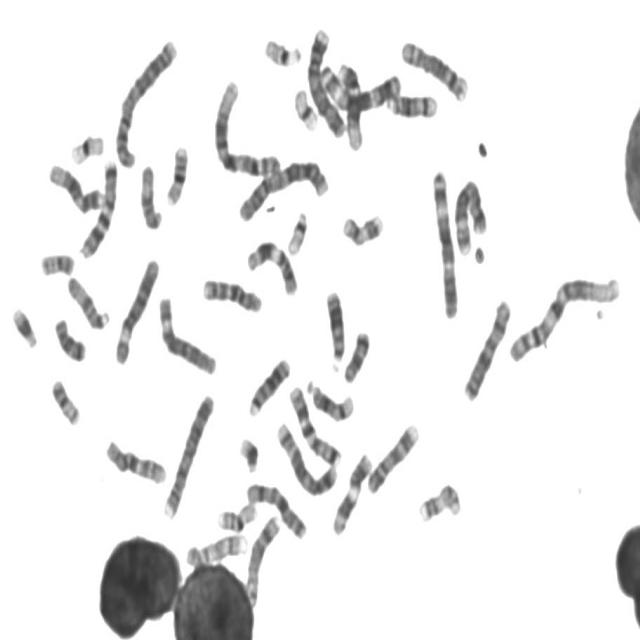A1: (504, 267, 624, 365), (211, 72, 284, 180)
A2: (112, 31, 180, 170), (235, 152, 331, 223)
A3: (429, 163, 461, 320), (318, 59, 404, 114)
B4: (160, 386, 217, 522), (304, 22, 347, 139)
B5: (273, 415, 340, 498), (451, 172, 489, 256)
C10: (102, 432, 170, 487), (199, 272, 265, 314)
C11: (329, 446, 375, 538), (244, 233, 301, 297)
C12: (45, 155, 106, 216), (334, 55, 366, 152)
C6: (112, 251, 162, 366), (155, 289, 219, 377)
C7: (286, 379, 344, 468), (76, 153, 120, 260)
C8: (397, 32, 471, 102), (242, 508, 282, 608)
C9: (364, 417, 422, 495), (185, 530, 247, 570)
D13: (245, 350, 292, 418), (322, 283, 347, 367)
D14: (304, 374, 356, 423), (384, 86, 441, 121)
D15: (64, 269, 112, 331), (137, 157, 165, 232)
E16: (163, 138, 191, 208), (215, 496, 259, 533)
E17: (416, 475, 464, 525), (339, 206, 387, 249)
E18: (340, 323, 373, 385), (51, 311, 89, 363)
F19: (290, 80, 320, 134), (67, 127, 107, 166)
F20: (48, 373, 83, 428), (37, 246, 77, 278)
G21: (8, 301, 40, 350), (236, 431, 262, 474)
G22: (261, 31, 305, 68), (284, 204, 310, 256)
X: (459, 292, 514, 404), (244, 475, 310, 541)
